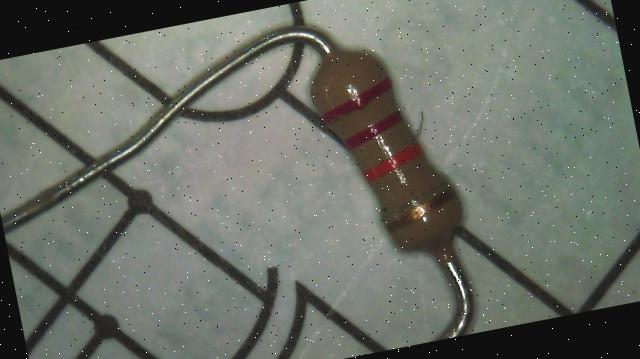gold: (378, 184, 462, 233)
orange: (361, 142, 426, 182)
red: (318, 77, 396, 123), (342, 110, 406, 150)
resistor: (277, 22, 507, 293)
